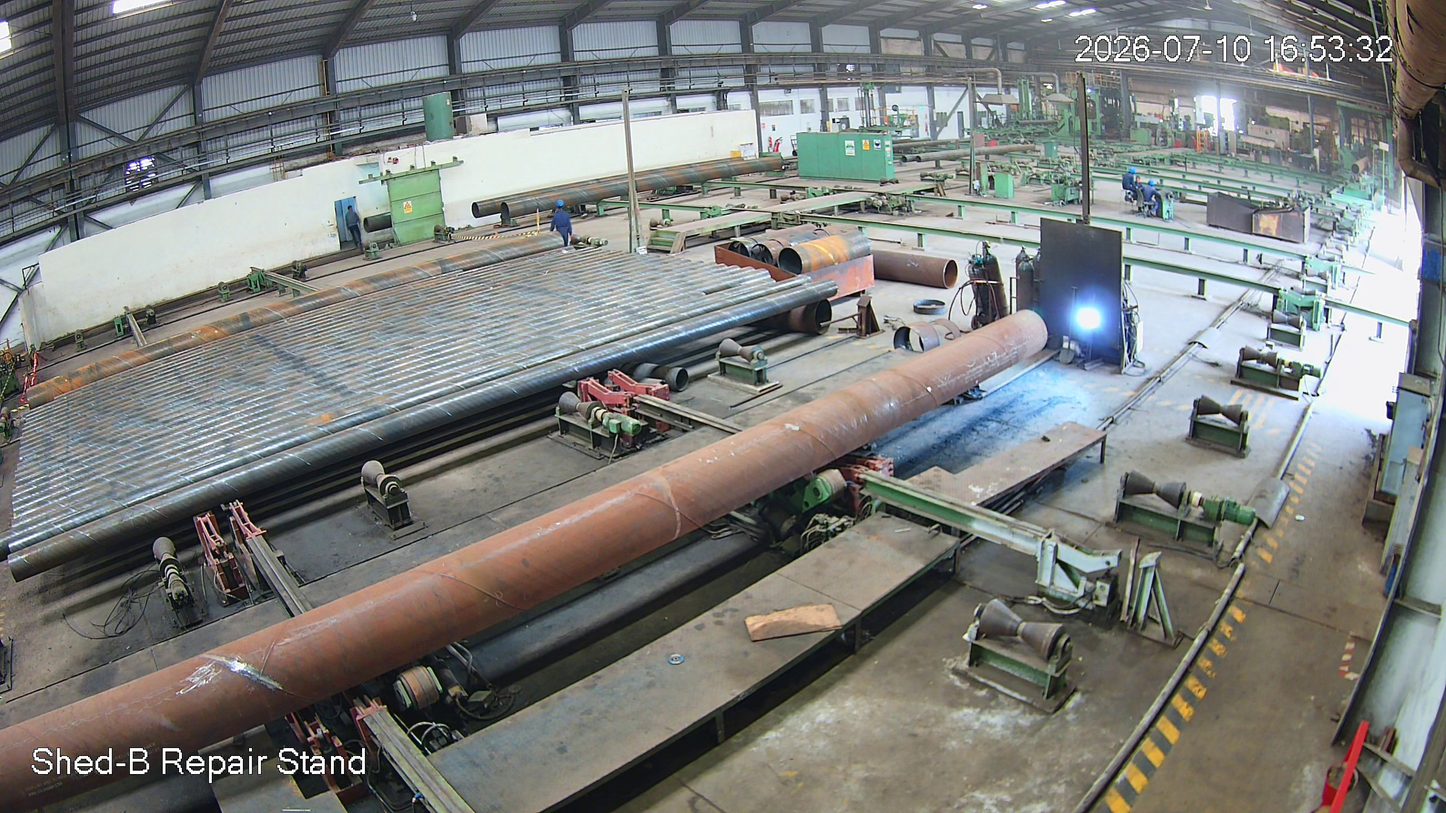Helmet: (556, 197, 569, 212)
Person: (551, 199, 574, 247)
